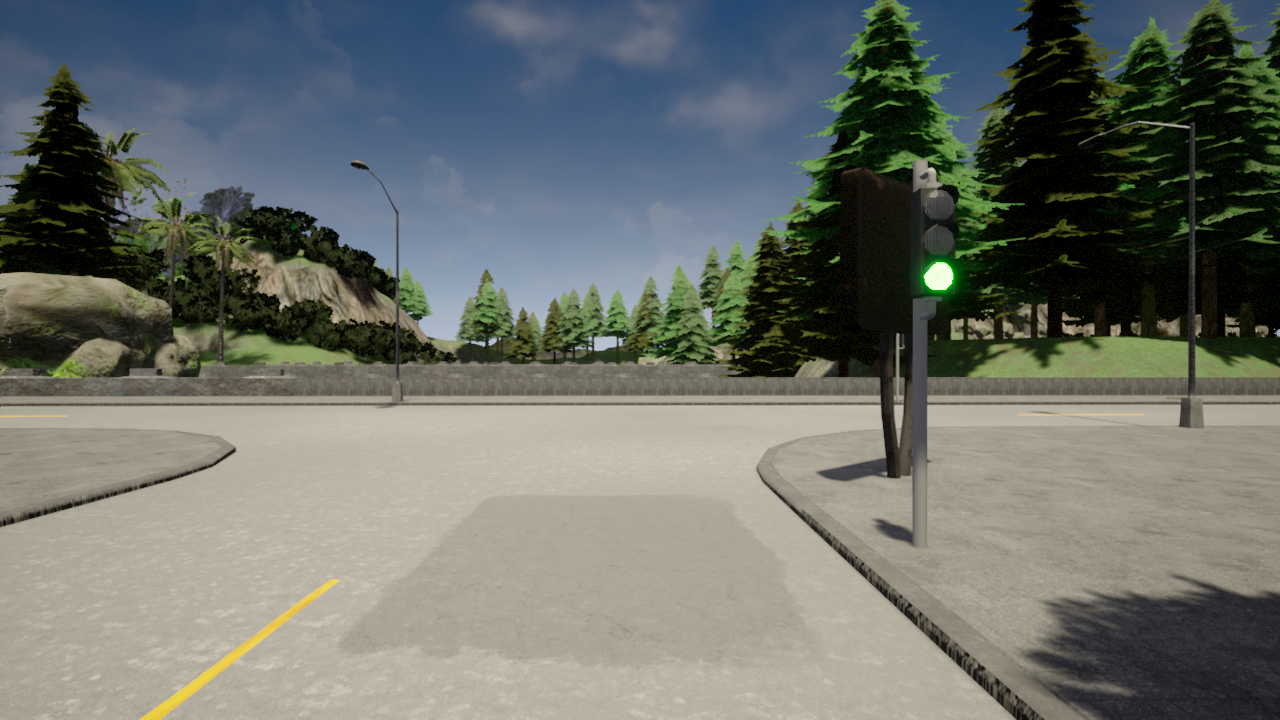green: (910, 186, 958, 294)
